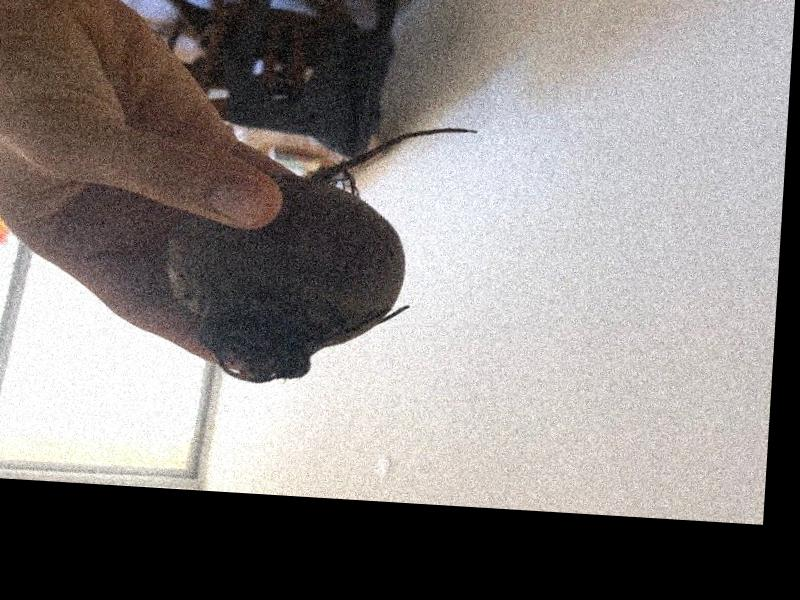Beet: (160, 110, 477, 395)
